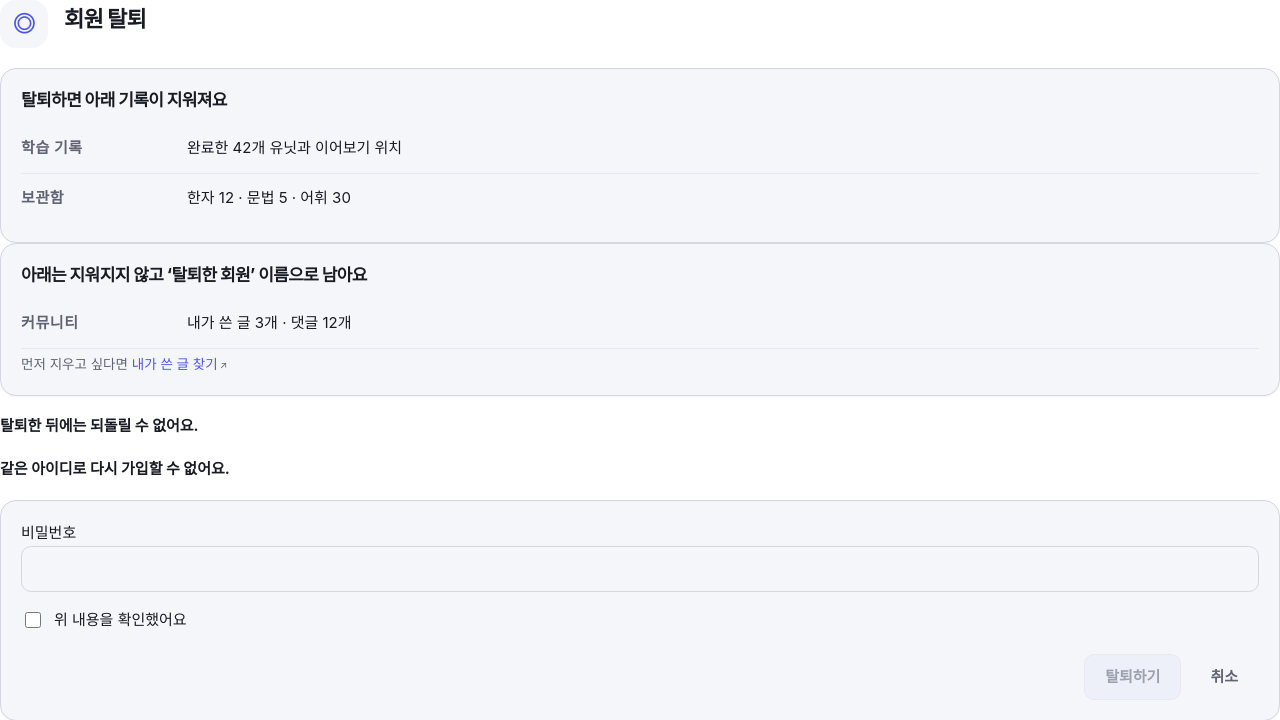
회원 탈퇴 — 실패별 대화상자 처리 (설계/05 §12-1 · 설계/04 §4-1) › 5xx는 대화상자를 닫지 않고 그 안에서 알린다
In the password field labelled "비밀번호": (640, 569) x1=21 y1=546 x2=1259 y2=592, type "1234"
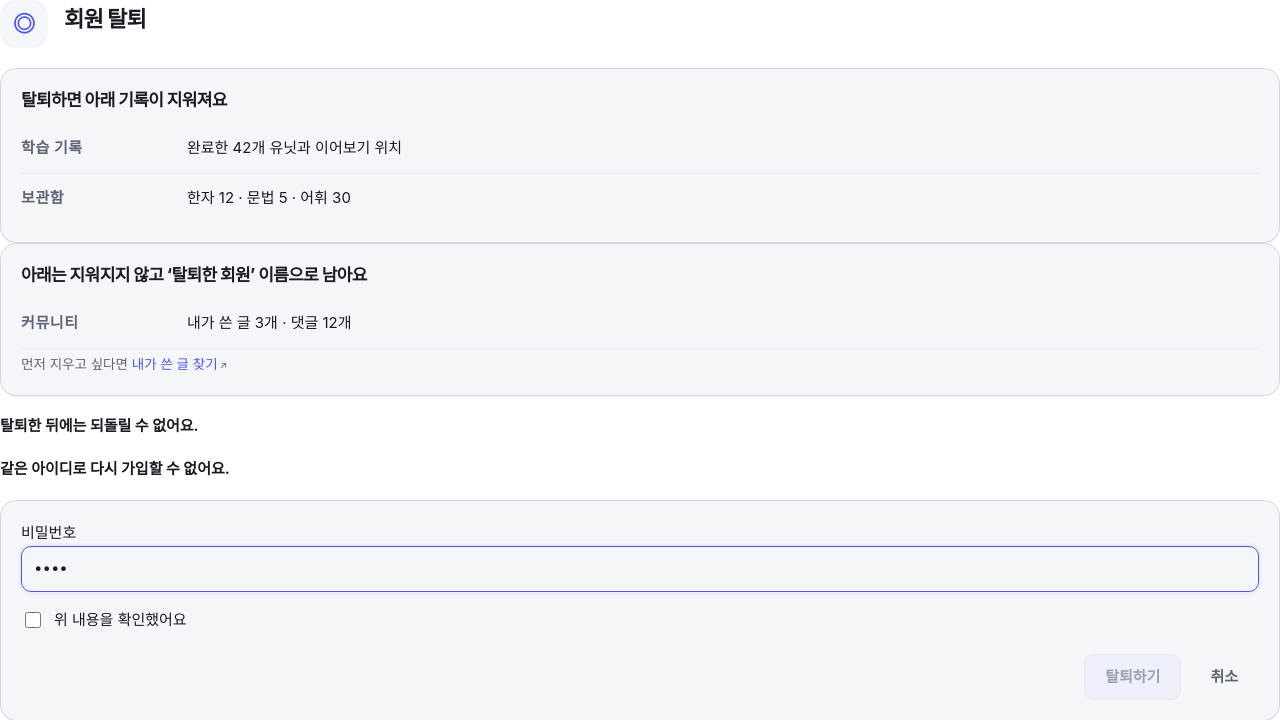
Click the checkbox labelled "위 내용을 확인했어요": (33, 620) x1=25 y1=612 x2=41 y2=628
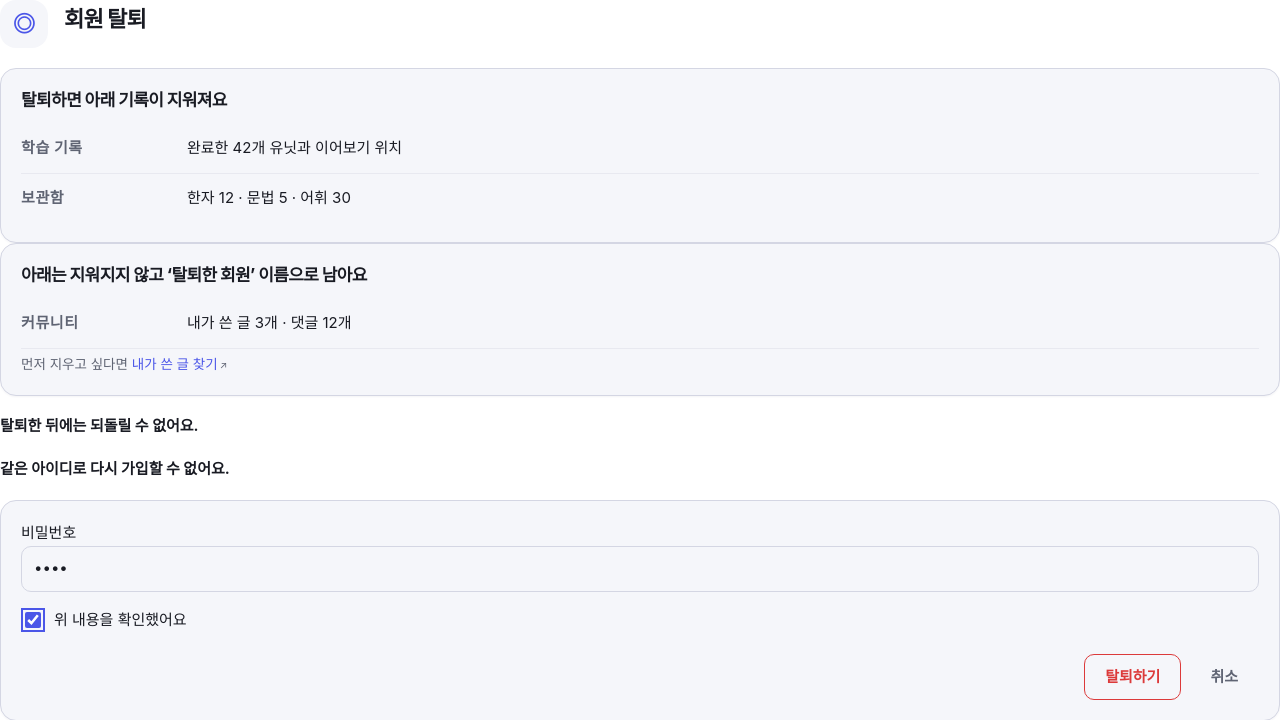
Click the button "탈퇴하기": (1133, 677) x1=1084 y1=654 x2=1181 y2=700
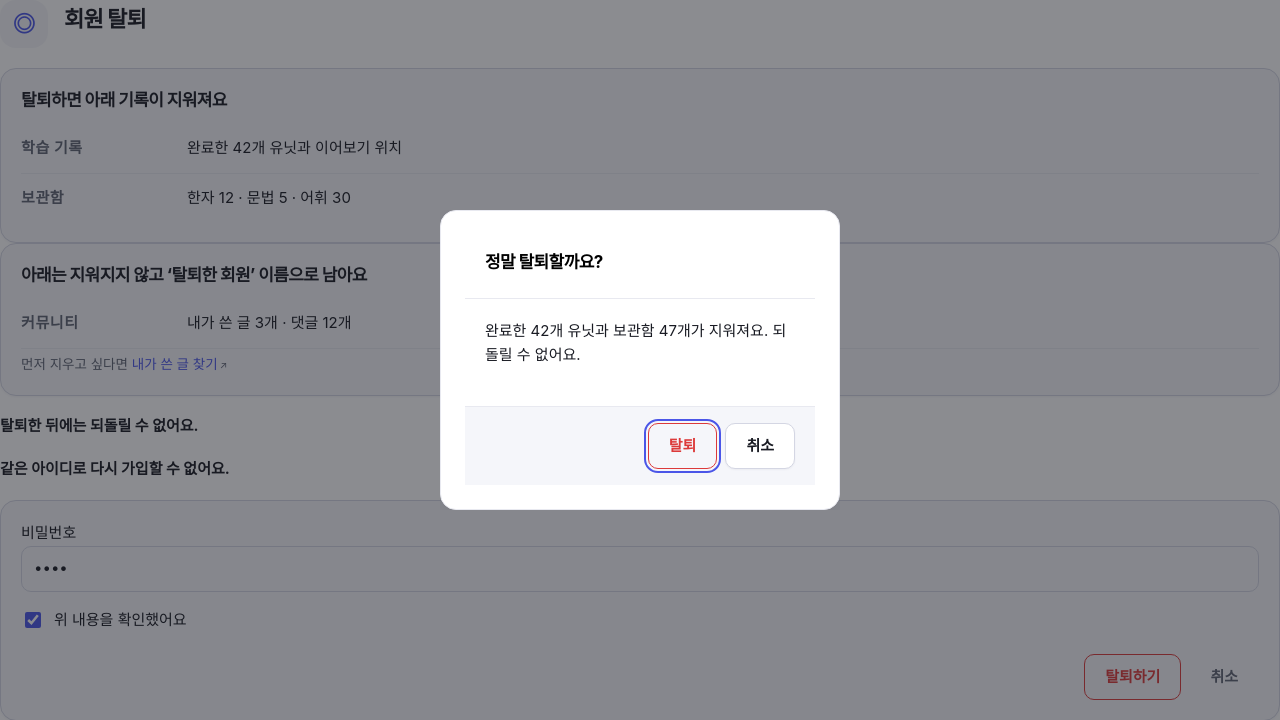
Click the button "탈퇴": (683, 446) x1=648 y1=423 x2=717 y2=469
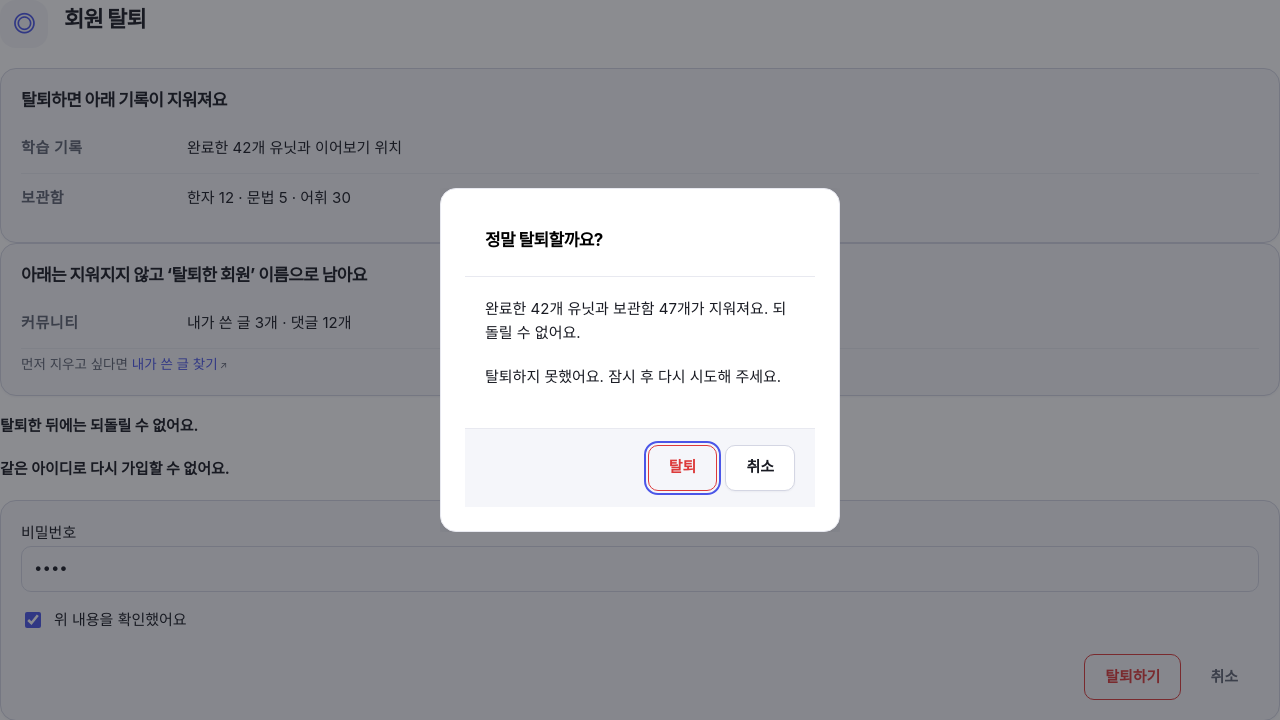
Now the button "탈퇴" is shown, box x1=648 y1=445 x2=717 y2=491
Now the text "탈퇴하지 못했어요. 잠시 후 다시 시도해 주세요." is shown, box x1=485 y1=365 x2=795 y2=390
